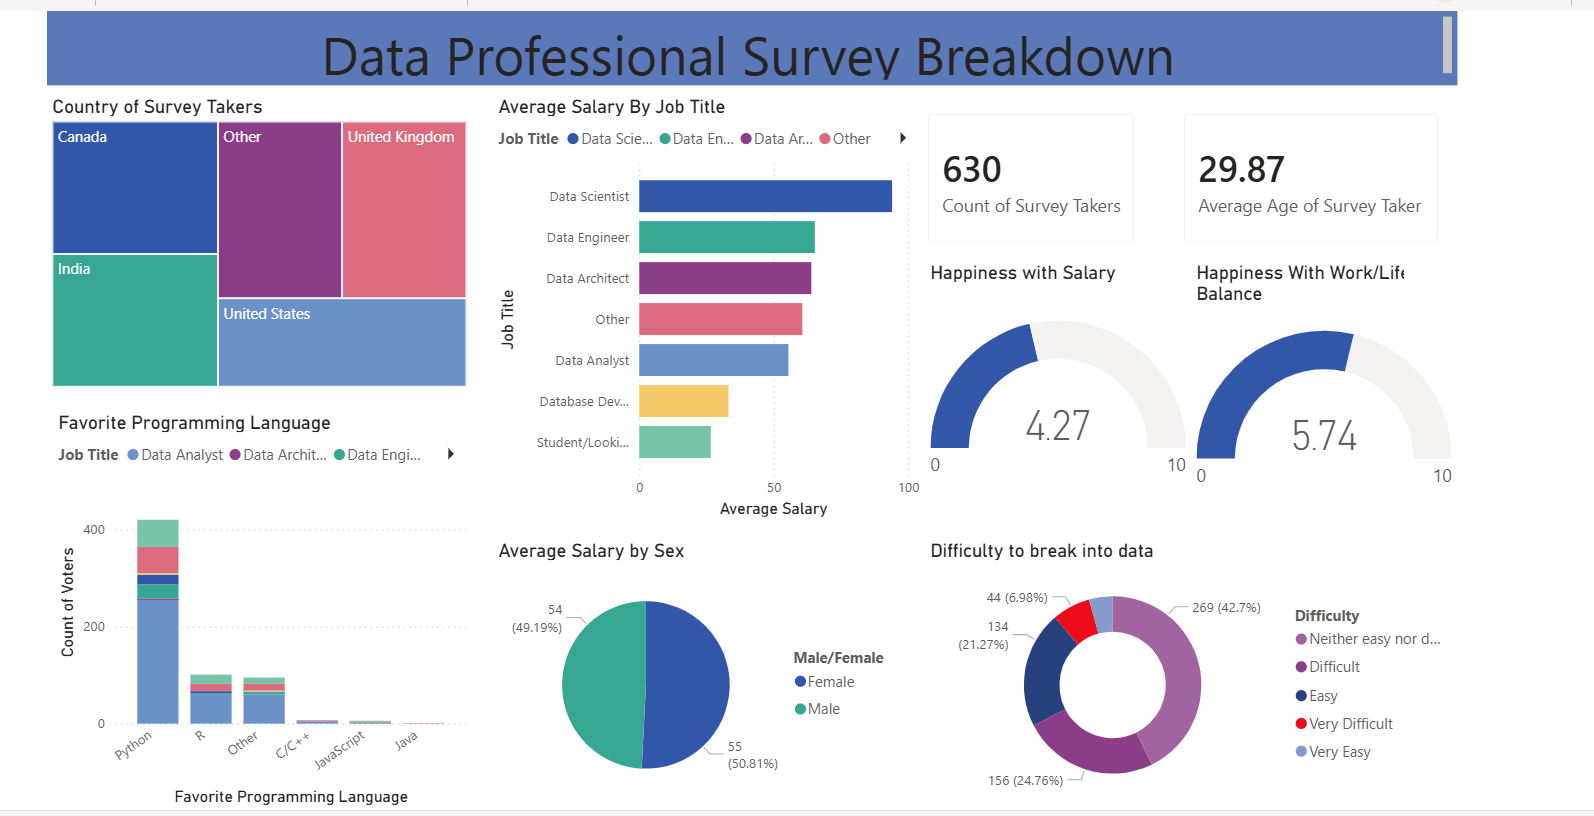

The page's visual inventory and layout, read from the dashboard file:
{"tool":"powerbi","page":{"name":"Page 1","canvas":[1280,720],"ordinal":0},"visuals":[{"type":"textbox","box":[9.3,0,1270.7,67.3],"z":0},{"type":"cardVisual","fields":{"Data":["Count(Data Professional Survey.Unique ID)"]},"box":[785.4,75.5,220.4,150],"z":1},{"type":"cardVisual","fields":{"Data":["Avg(Data Professional Survey.Q10 - Current Age)"]},"box":[1016.1,75.5,263.9,150],"z":2},{"type":"barChart","title":"Average Salary By Job Title","fields":{"Category":["Data Professional Survey.Q1 - Which Title Best Fits your Current Role?.1"],"Y":["Avg(Data Professional Survey.Average Salary)"],"Series":["Data Professional Survey.Q1 - Which Title Best Fits your Current Role?.1"]},"box":[410.8,75.5,389.1,384.9],"z":3},{"type":"columnChart","title":"Favorite Programming Language","fields":{"Category":["Data Professional Survey.Q5 - Favorite Programming Language.1"],"Y":["CountNonNull(Data Professional Survey.Unique ID)"],"Series":["Data Professional Survey.Q1 - Which Title Best Fits your Current Role?.1"]},"box":[14.5,360.1,377.7,360.1],"z":4},{"type":"treemap","title":"Country of Survey Takers","fields":{"Group":["Data Professional Survey.Q11 - Which Country do you live in?.1"],"Values":["Count(Data Professional Survey.Q11 - Which Country do you live in?.1)"]},"box":[9.3,75.5,382.9,268],"z":5},{"type":"gauge","title":"Happiness With Work/Life Balance","fields":{"Y":["Avg(Data Professional Survey.Q6 - How Happy are you in your Current Position with the following? (Work/Life Balance))"],"MinValue":["Min(Data Professional Survey.Q6 - How Happy are you in your Current Position with the following? (Work/Life Balance))1"],"MaxValue":["Max(Data Professional Survey.Q6 - How Happy are you in your Current Position with the following? (Work/Life Balance))2"]},"box":[1039.9,225.6,240.1,234.9],"z":6},{"type":"gauge","title":"Happiness with Salary","fields":{"Y":["Avg(Data Professional Survey.Q6 - How Happy are you in your Current Position with the following? (Salary))"],"MinValue":["Min(Data Professional Survey.Q6 - How Happy are you in your Current Position with the following? (Salary))"],"MaxValue":["Max(Data Professional Survey.Q6 - How Happy are you in your Current Position with the following? (Salary))"]},"box":[799.9,225.6,240.1,234.9],"z":7},{"type":"pieChart","title":"Average Salary by Sex","fields":{"Category":["Data Professional Survey.Q9 - Male/Female?"],"Y":["Avg(Data Professional Survey.Average Salary)"]},"box":[410.8,476,374.6,244.2],"z":8},{"type":"donutChart","title":"Difficulty to break into data","fields":{"Category":["Data Professional Survey.Q7 - How difficult was it for you to break into Data?"],"Y":["CountNonNull(Data Professional Survey.Q7 - How difficult was it for you to break into Data?)"]},"box":[799.9,476,480.1,244.2],"z":9}]}

Visuals, with their boxes on the page's 1280x720 design canvas (x1, y1, x2, y2). These are canvas units, not pixel positions in the 1594x816 screenshot, which may show the page scaled, cropped or inside an application window:
textbox: 9,0,1280,67
cardVisual - Count(Data Professional Survey.Unique ID): 785,76,1006,226
cardVisual - Avg(Data Professional Survey.Q10 - Current Age): 1016,76,1280,226
"Average Salary By Job Title" barChart: 411,76,800,460
"Favorite Programming Language" columnChart: 14,360,392,720
"Country of Survey Takers" treemap: 9,76,392,344
"Happiness With Work/Life Balance" gauge: 1040,226,1280,460
"Happiness with Salary" gauge: 800,226,1040,460
"Average Salary by Sex" pieChart: 411,476,785,720
"Difficulty to break into data" donutChart: 800,476,1280,720
